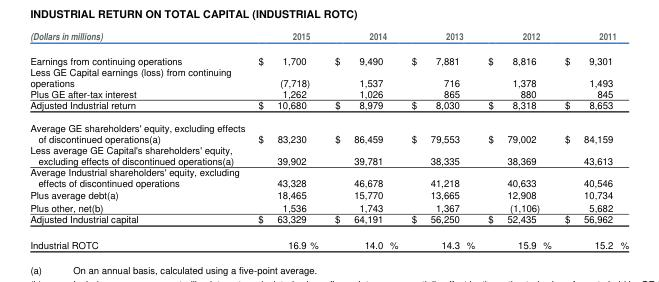table: (29, 29, 628, 250)
table column: (29, 29, 245, 250), (245, 29, 325, 250), (325, 29, 404, 250), (480, 29, 557, 250), (404, 29, 480, 250), (557, 29, 628, 250)
table column header: (29, 29, 628, 47)
table projected row header: (29, 115, 628, 132), (29, 165, 628, 177), (29, 143, 628, 154)
table row: (29, 65, 628, 87), (29, 212, 628, 231), (29, 231, 628, 250), (29, 29, 628, 47), (29, 47, 628, 65), (29, 98, 628, 115), (29, 115, 628, 132), (29, 165, 628, 177), (29, 188, 628, 200), (29, 200, 628, 212), (29, 87, 628, 98), (29, 132, 628, 143), (29, 143, 628, 154), (29, 154, 628, 165), (29, 177, 628, 188)
